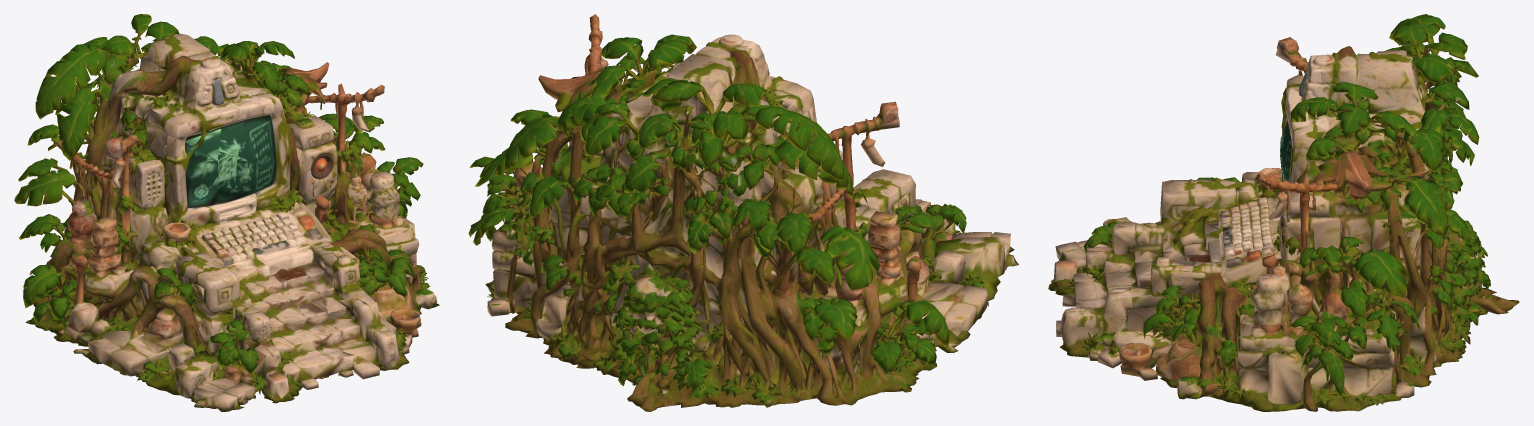
Rendered from JungleComputer_A_browser.v3.glb.
3 views of the same model, side by side, from view 1: azimuth 30°, elevation 25°; view 2: azimuth 150°, elevation 25°; view 3: azimuth 270°, elevation 25° (orthographic). The views are drawn at different scales.
Parts seen in each view (by area): view 1: LOW; view 2: LOW; view 3: LOW.
Boxes of the visible parts, <box> form: LOW: <box>14,14,439,411</box>; LOW: <box>468,14,1018,411</box>; LOW: <box>1048,14,1519,411</box>.
Bounding box in the file's own units: 1.87 × 1.11 × 1.79.
1 material, 1 textured.
